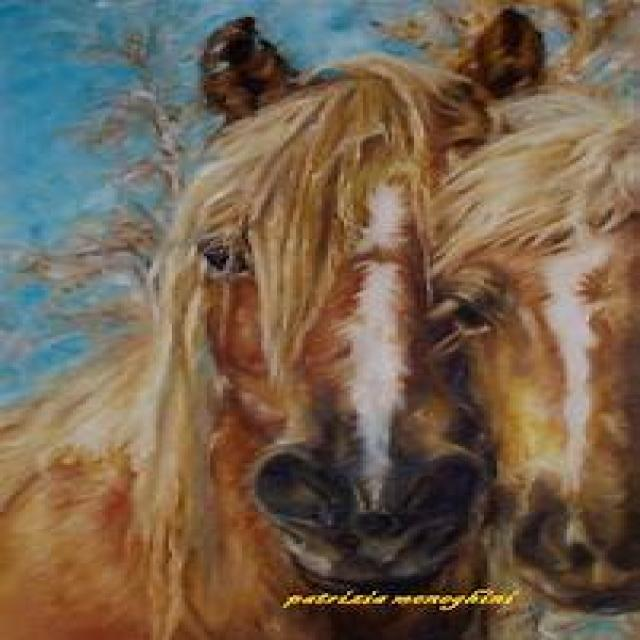animal: (0, 11, 471, 638), (446, 98, 639, 606)
